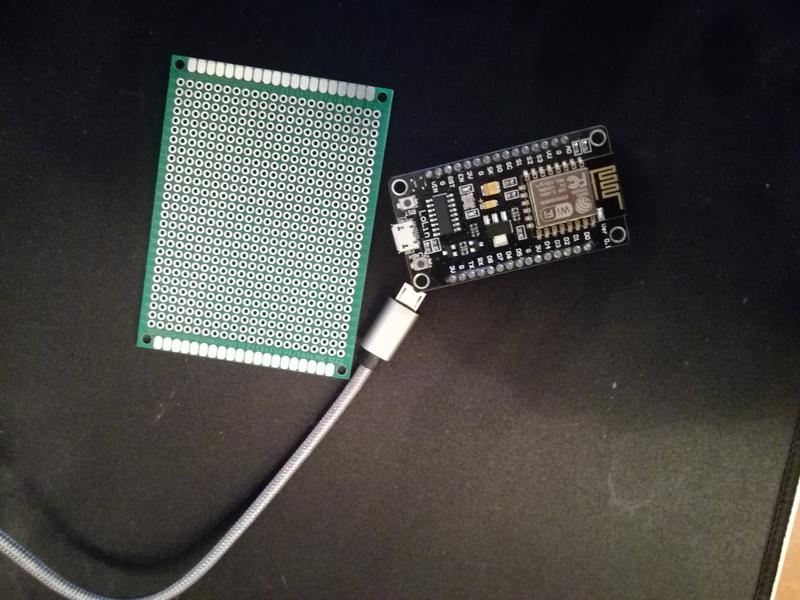ESP8266: (379, 116, 635, 299)
